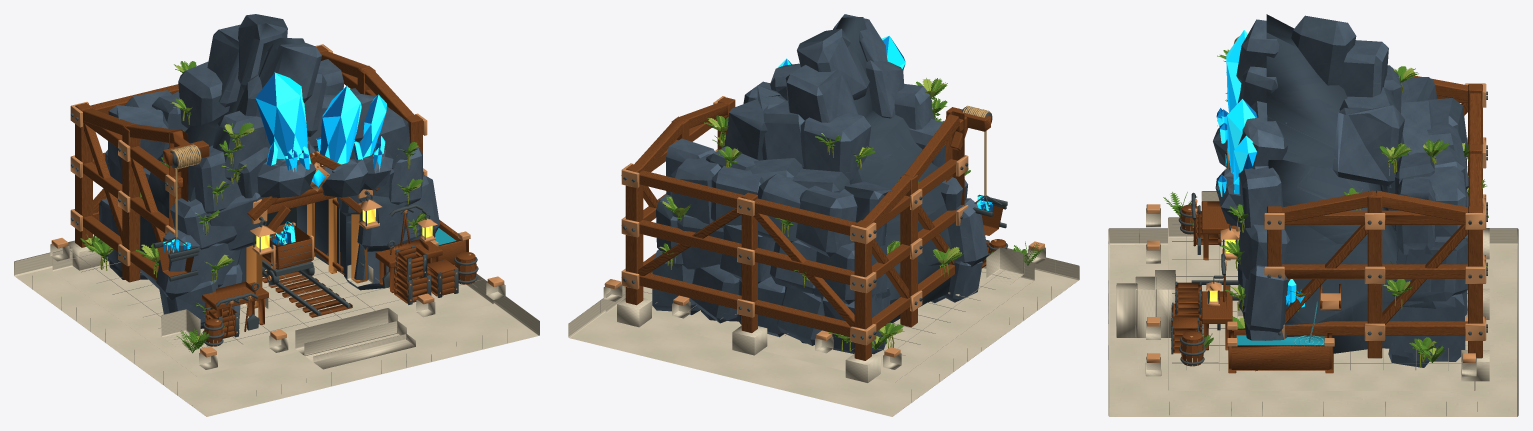
Rendered from vein-lod1-508898f9a113.glb.
3 views of the same model, side by side, from view 1: azimuth 30°, elevation 25°; view 2: azimuth 150°, elevation 25°; view 3: azimuth 270°, elevation 25° (orthographic). The views are drawn at different scales.
Parts seen in each view (by area): view 1: GEO-export-MAT-vein-ivory.018, GEO-export-MAT-vein-slate-1.018, GEO-export-MAT-vein-wood-edge.018, GEO-export-MAT-vein-wood.018, GEO-export-MAT-vein-slate-0.018, GEO-export-MAT-vein-iron.018, GEO-export-MAT-vein-copper.018, GEO-export-MAT-vein-slate-2.018, GEO-export-MAT-vein-crystal-2.018, GEO-export-MAT-vein-slate-3.018, GEO-export-MAT-vein-crystal-1.018, GEO-export-MAT-vein-fern-leaf.018 (+7 smaller); view 2: GEO-export-MAT-vein-slate-1.018, GEO-export-MAT-vein-ivory.018, GEO-export-MAT-vein-wood-edge.018, GEO-export-MAT-vein-wood.018, GEO-export-MAT-vein-slate-0.018, GEO-export-MAT-vein-copper.018, GEO-export-MAT-vein-fern-leaf.018, GEO-export-MAT-vein-slate-2.018, GEO-export-MAT-vein-slate-3.018, GEO-export-MAT-vein-iron.018, GEO-export-MAT-vein-fern-lime.018, GEO-export-MAT-vein-fern-tip.018 (+2 smaller); view 3: GEO-export-MAT-vein-ivory.018, GEO-export-MAT-vein-slate-1.018, GEO-export-MAT-vein-slate-0.018, GEO-export-MAT-vein-wood-edge.018, GEO-export-MAT-vein-wood.018, GEO-export-MAT-vein-copper.018, GEO-export-MAT-vein-slate-2.018, GEO-export-MAT-vein-fern-leaf.018, GEO-export-MAT-vein-slate-3.018, GEO-export-MAT-vein-iron.018, GEO-export-MAT-vein-crystal-1.018, GEO-export-MAT-vein-crystal-2.018 (+4 smaller).
Boxes of the visible parts, x1,y1,x2,y2 form: GEO-export-MAT-vein-ivory.018: [14, 240, 539, 416]; GEO-export-MAT-vein-slate-1.018: [101, 14, 439, 322]; GEO-export-MAT-vein-wood-edge.018: [82, 51, 476, 346]; GEO-export-MAT-vein-wood.018: [75, 45, 475, 333]; GEO-export-MAT-vein-slate-0.018: [107, 14, 434, 328]; GEO-export-MAT-vein-iron.018: [70, 113, 478, 345]; GEO-export-MAT-vein-copper.018: [51, 44, 504, 357]; GEO-export-MAT-vein-slate-2.018: [99, 31, 436, 326]; GEO-export-MAT-vein-crystal-2.018: [163, 72, 386, 245]; GEO-export-MAT-vein-slate-3.018: [99, 23, 439, 289]; GEO-export-MAT-vein-crystal-1.018: [167, 72, 386, 252]; GEO-export-MAT-vein-fern-leaf.018: [80, 54, 427, 353]; GEO-export-MAT-vein-slate-1.018: [652, 14, 988, 351]; GEO-export-MAT-vein-ivory.018: [568, 247, 1079, 416]; GEO-export-MAT-vein-wood-edge.018: [634, 102, 1006, 336]; GEO-export-MAT-vein-wood.018: [625, 97, 1005, 360]; GEO-export-MAT-vein-slate-0.018: [656, 17, 987, 354]; GEO-export-MAT-vein-copper.018: [604, 96, 1044, 357]; GEO-export-MAT-vein-fern-leaf.018: [659, 78, 1043, 350]; GEO-export-MAT-vein-slate-2.018: [670, 28, 982, 345]; GEO-export-MAT-vein-slate-3.018: [677, 41, 968, 348]; GEO-export-MAT-vein-iron.018: [621, 107, 1007, 339]; GEO-export-MAT-vein-fern-lime.018: [651, 79, 1024, 345]; GEO-export-MAT-vein-fern-tip.018: [665, 79, 961, 344]; GEO-export-MAT-vein-ivory.018: [1108, 191, 1518, 416]; GEO-export-MAT-vein-slate-1.018: [1213, 19, 1468, 371]; GEO-export-MAT-vein-slate-0.018: [1213, 14, 1468, 367]; GEO-export-MAT-vein-wood-edge.018: [1171, 75, 1481, 369]; GEO-export-MAT-vein-wood.018: [1173, 84, 1482, 373]; GEO-export-MAT-vein-copper.018: [1146, 83, 1486, 362]; GEO-export-MAT-vein-slate-2.018: [1213, 39, 1465, 331]; GEO-export-MAT-vein-fern-leaf.018: [1163, 49, 1488, 363]; GEO-export-MAT-vein-slate-3.018: [1217, 16, 1467, 370]; GEO-export-MAT-vein-iron.018: [1171, 91, 1487, 364]; GEO-export-MAT-vein-crystal-1.018: [1217, 30, 1304, 307]; GEO-export-MAT-vein-crystal-2.018: [1217, 30, 1296, 294].
Size of the model in its own units: 10 by 8.28 by 10.
27 materials, 7 textured.
